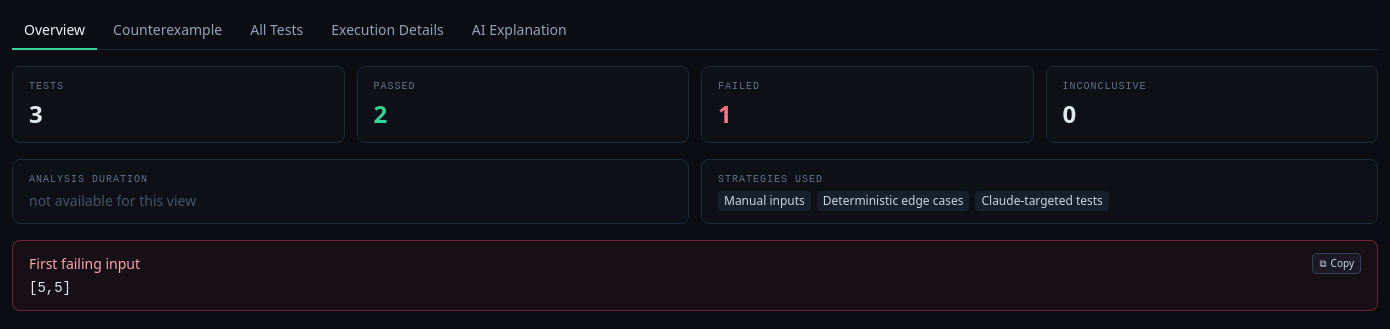
Scenario: ResultsView › filters the All Tests table by outcome
Click the tab "All Tests" at (277, 31), box [238,12,315,50]
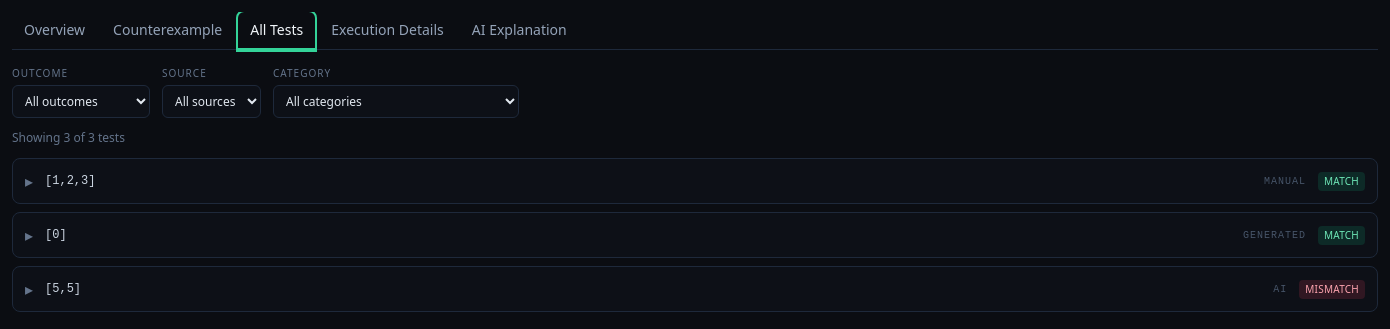
Select "Failed (mismatch)" in the dropdown labelled "Outcome" at (81, 102), box [12,85,150,118]
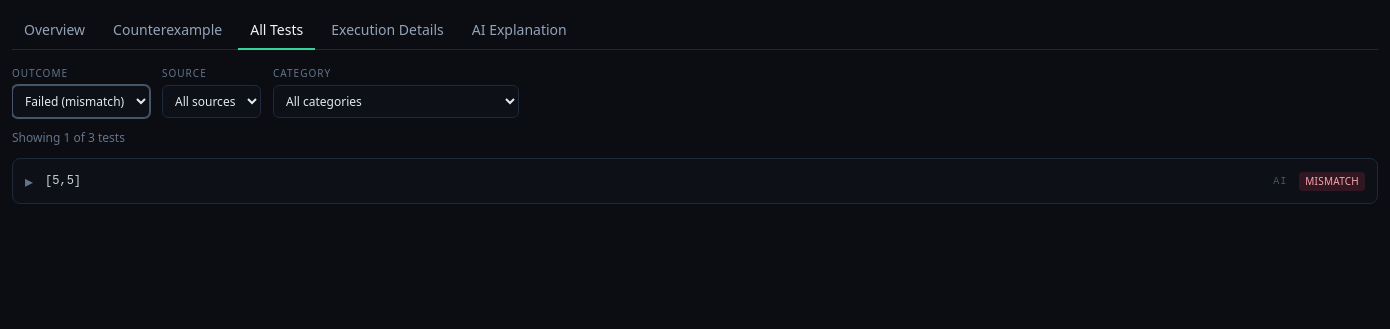
Expected: the text "Showing 1 of 3 tests" is shown, [12,129,125,146]
